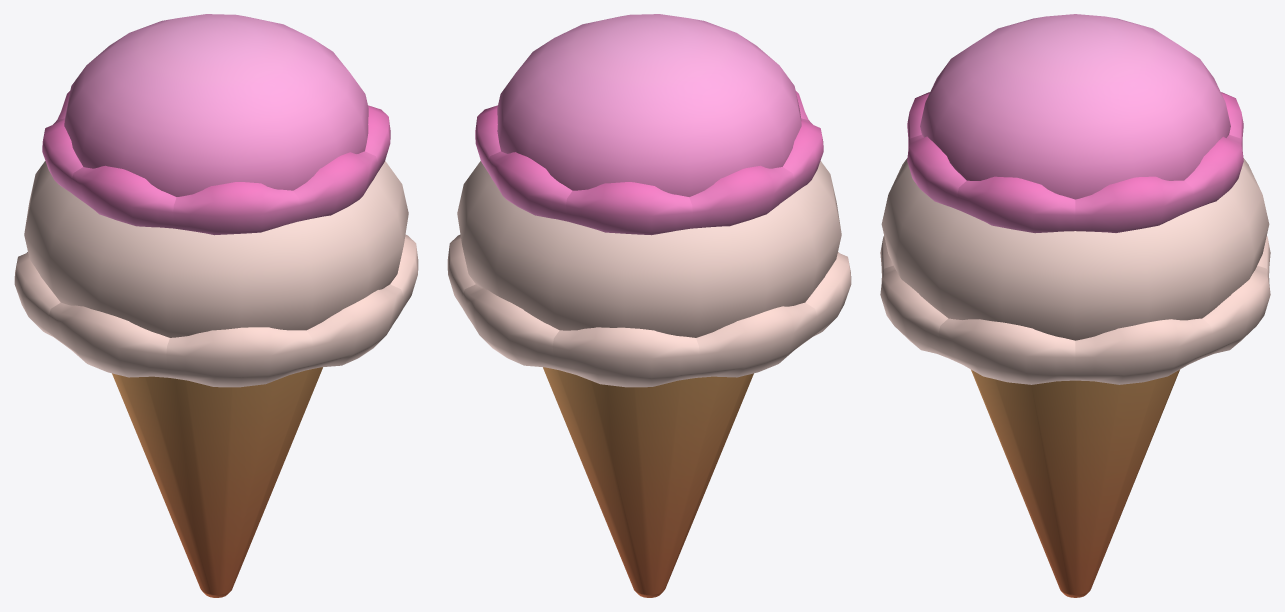
File: Icecream_V3_03.fbx
The picture shows the model from 3 angles, left to right: view 1: azimuth 30°, elevation 25°; view 2: azimuth 150°, elevation 25°; view 3: azimuth 270°, elevation 25°; orthographic projection.
Visible parts, largest first — view 1: Icecream_V3_03; view 2: Icecream_V3_03; view 3: Icecream_V3_03.
Boxes of the visible parts, box(x1,y1,x2,y2) form: Icecream_V3_03: box(14, 14, 418, 597); Icecream_V3_03: box(447, 14, 851, 597); Icecream_V3_03: box(880, 14, 1270, 597).
Bounding box in the file's own units: 31.28 × 49.57 × 31.28.
